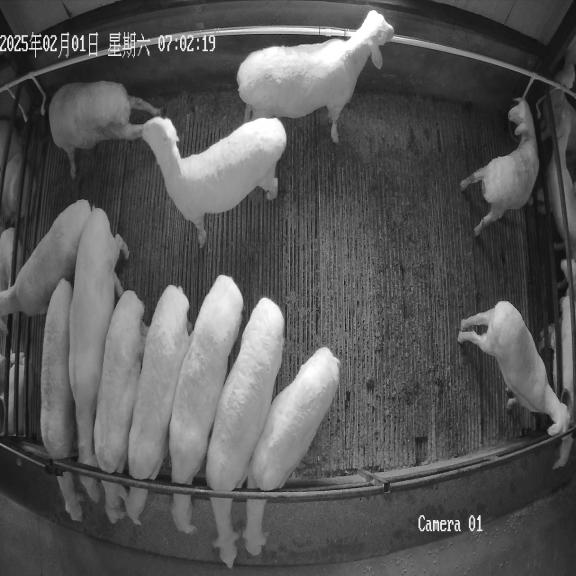eating: (206, 298, 284, 568), (241, 347, 340, 556), (165, 275, 243, 533), (69, 207, 129, 502), (125, 285, 189, 524), (94, 290, 148, 523), (40, 278, 82, 522)
stand: (237, 10, 394, 143), (142, 117, 286, 246), (457, 301, 570, 435), (48, 81, 161, 178), (460, 98, 539, 236), (0, 200, 90, 316)
